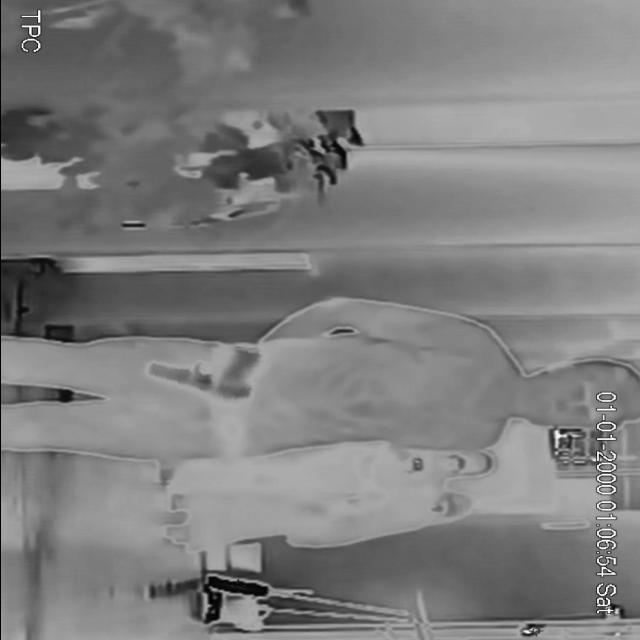Weapon: (131, 342, 270, 410)
